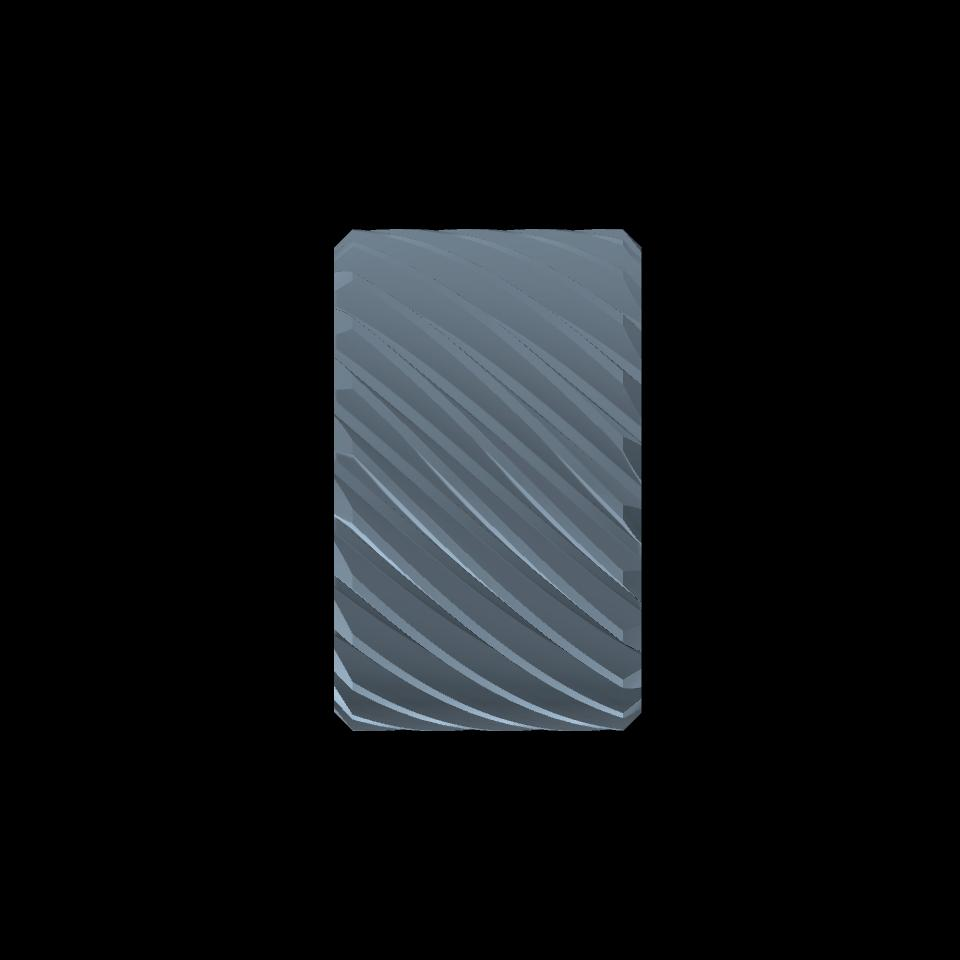Helical: (352, 230, 623, 730)
